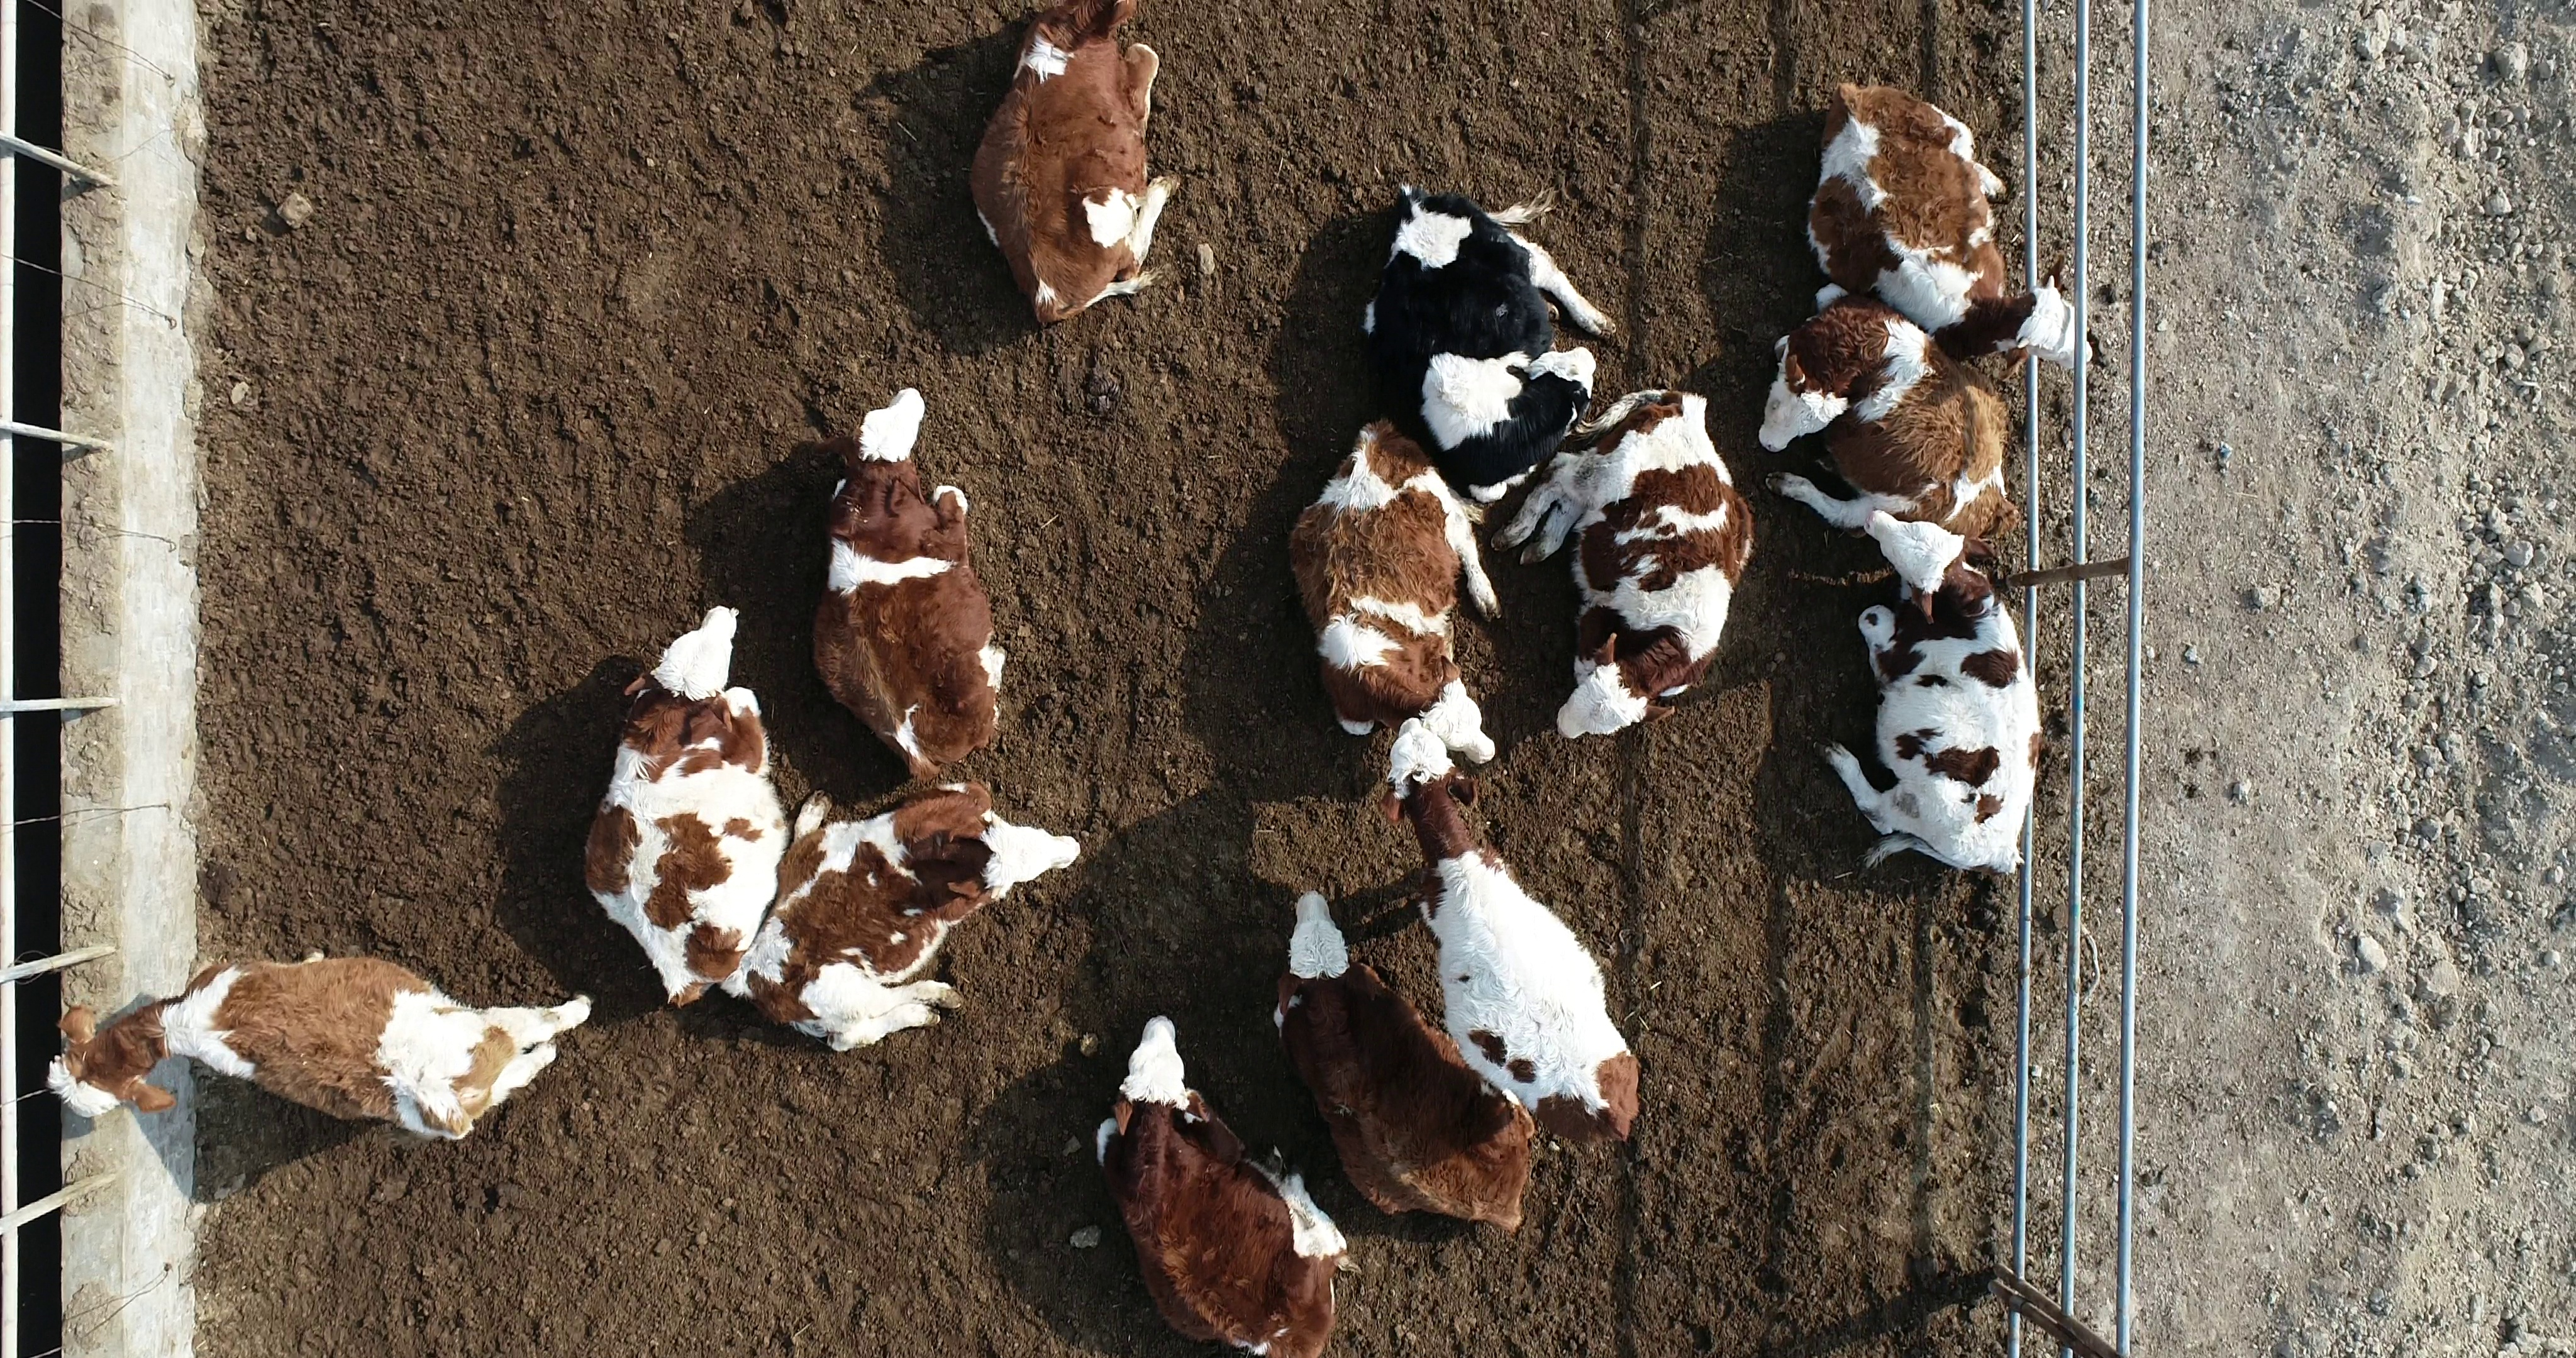cattle: (1371, 714, 1642, 1148), (39, 951, 607, 1147), (572, 598, 837, 1012), (1087, 1012, 1353, 1358), (1799, 75, 2104, 373), (1358, 174, 1627, 508), (1816, 506, 2050, 881), (804, 383, 1021, 785), (1281, 407, 1513, 765), (964, 0, 1194, 332)
